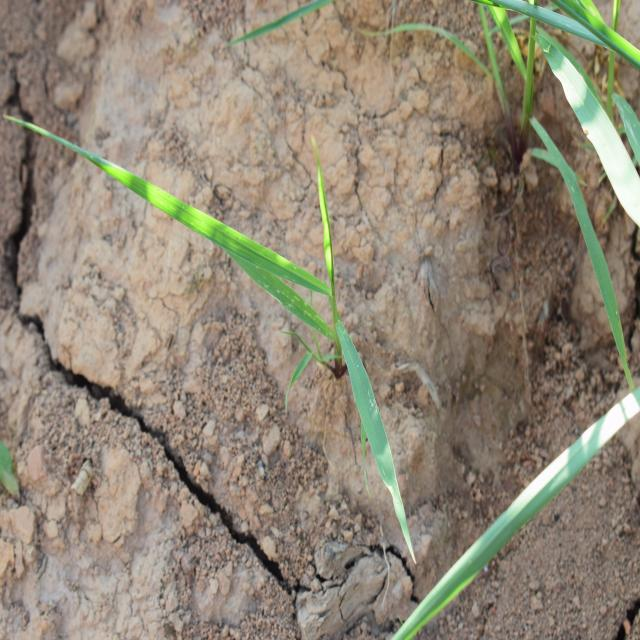green_foxtail: (104, 133, 432, 510)
